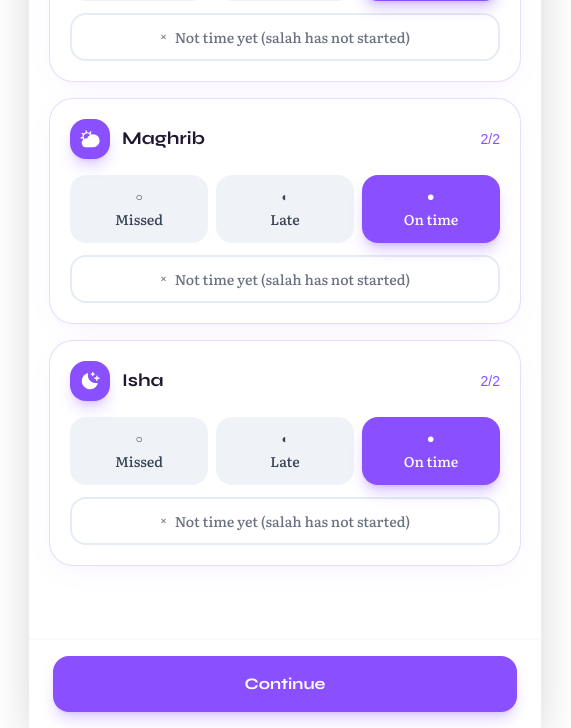
it: MuhasabahJournal › restores temporary anonymous dashboard progress when returning to edit
The image size is (571, 728).
(page scrolled)
What coordinates should you click on to do the following:
click the button "Continue"
I would click on:
 (285, 684)
Its box is 53,656 -> 517,712.
(page scrolled)
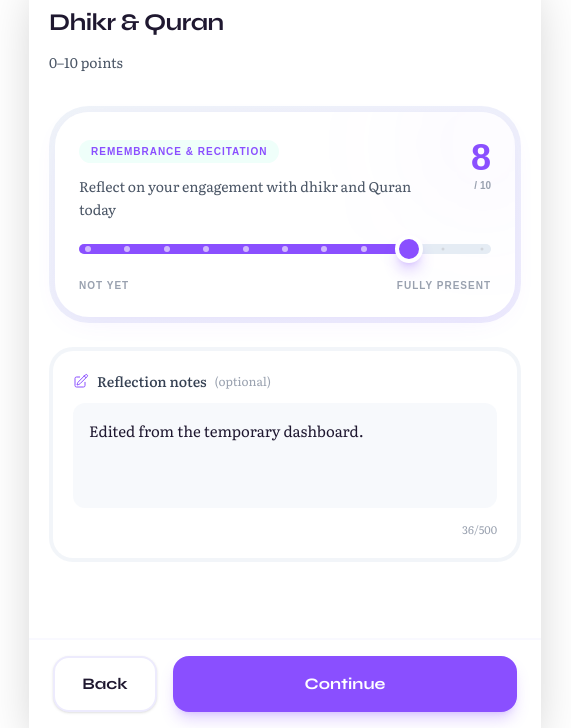
Now the element named "Dhikr and Quran score" holds "8", box 79,136 -> 491,293
Now the text box showing "Edited from the temporary dashboard." is shown, box 73,403 -> 497,508
